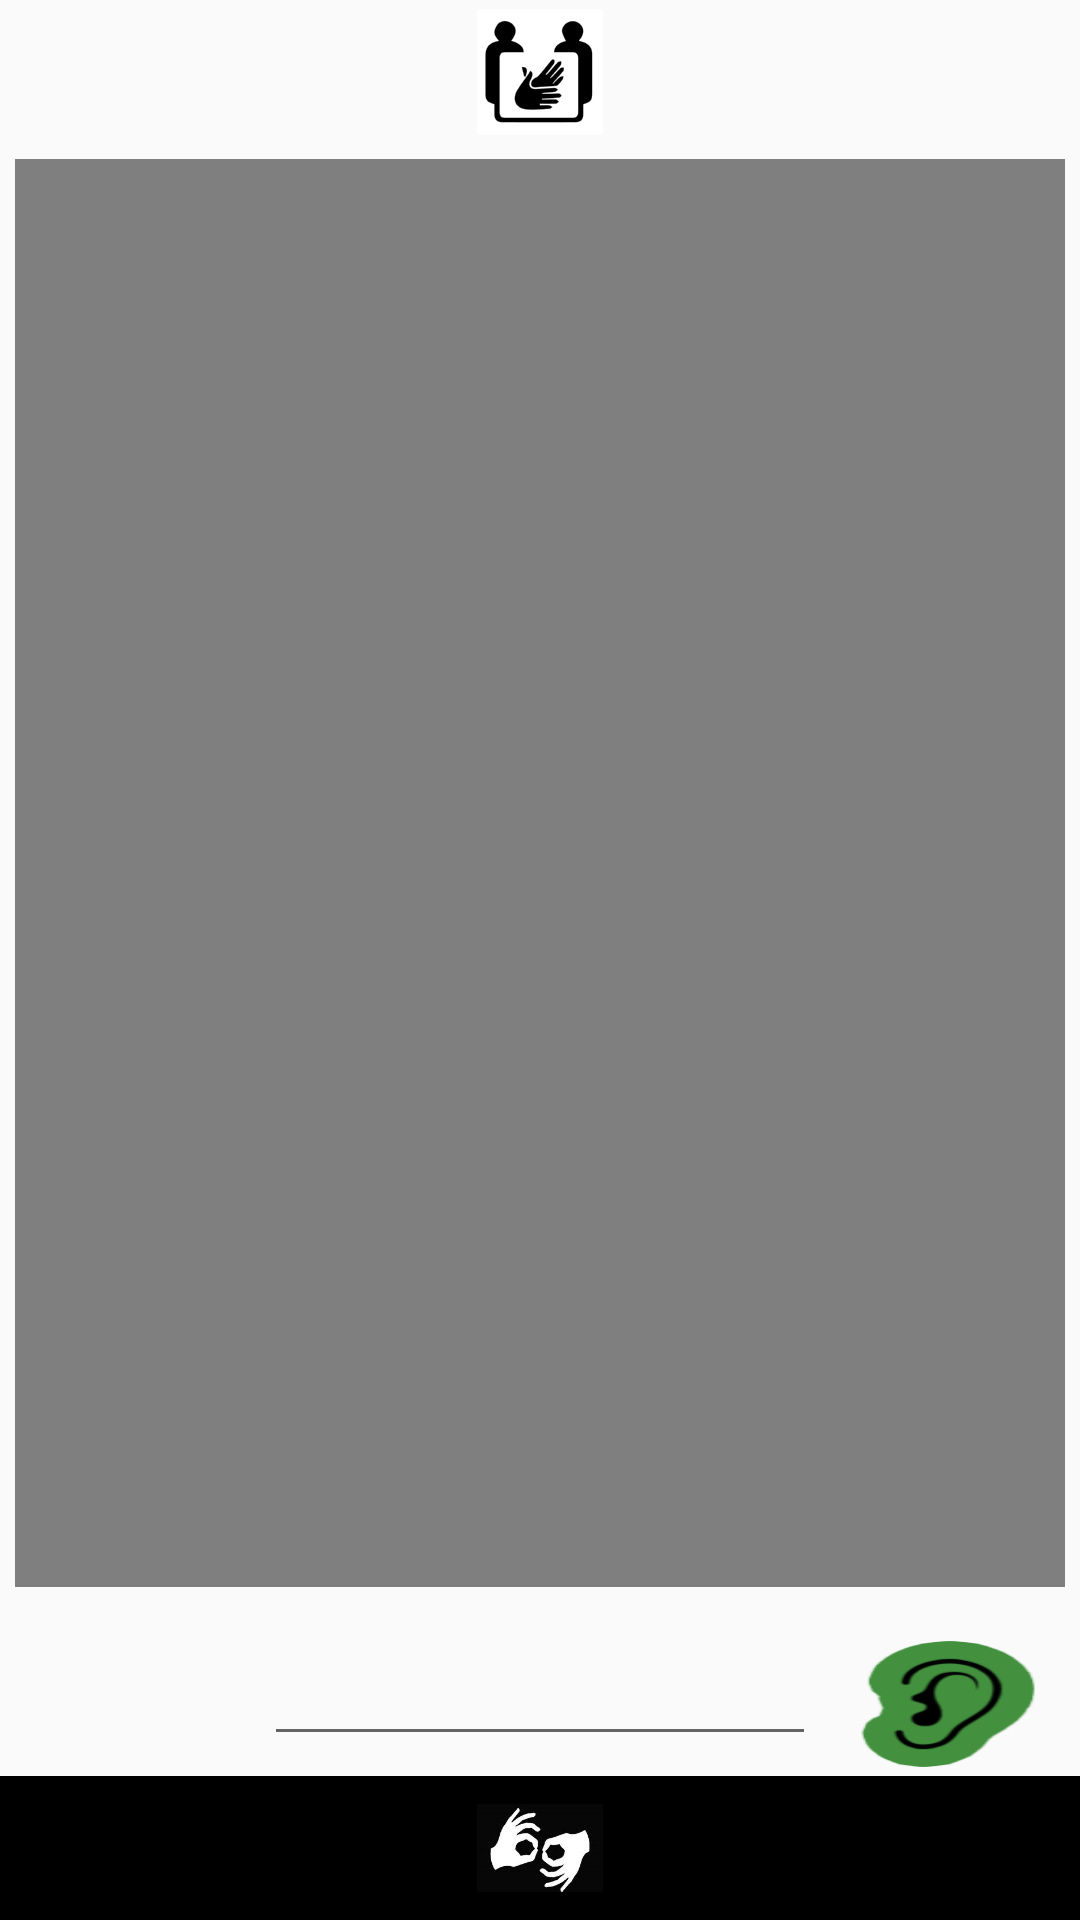

Icons on this 1080px x 1920px Android screen, each with its box as {"left": x1, "top": y1, "right": x2, "bottom": y2}:
videotraductor: {"left": 485, "top": 21, "right": 593, "bottom": 123}
